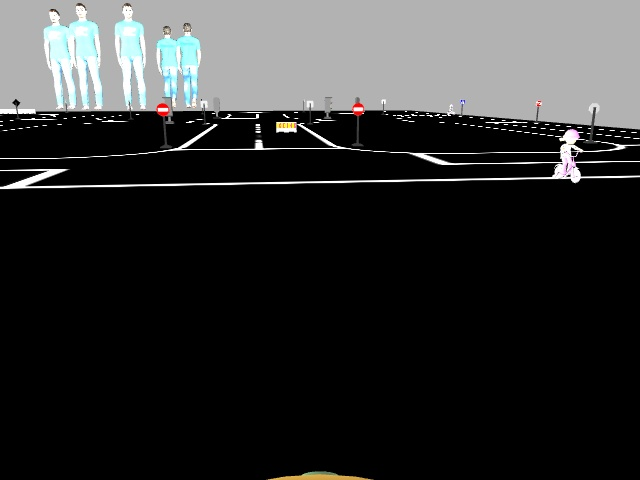ClosedRoadStand: (277, 121, 296, 132)
NoEntry: (156, 104, 169, 117), (351, 104, 364, 116)
Pedestrian: (556, 129, 581, 181)
